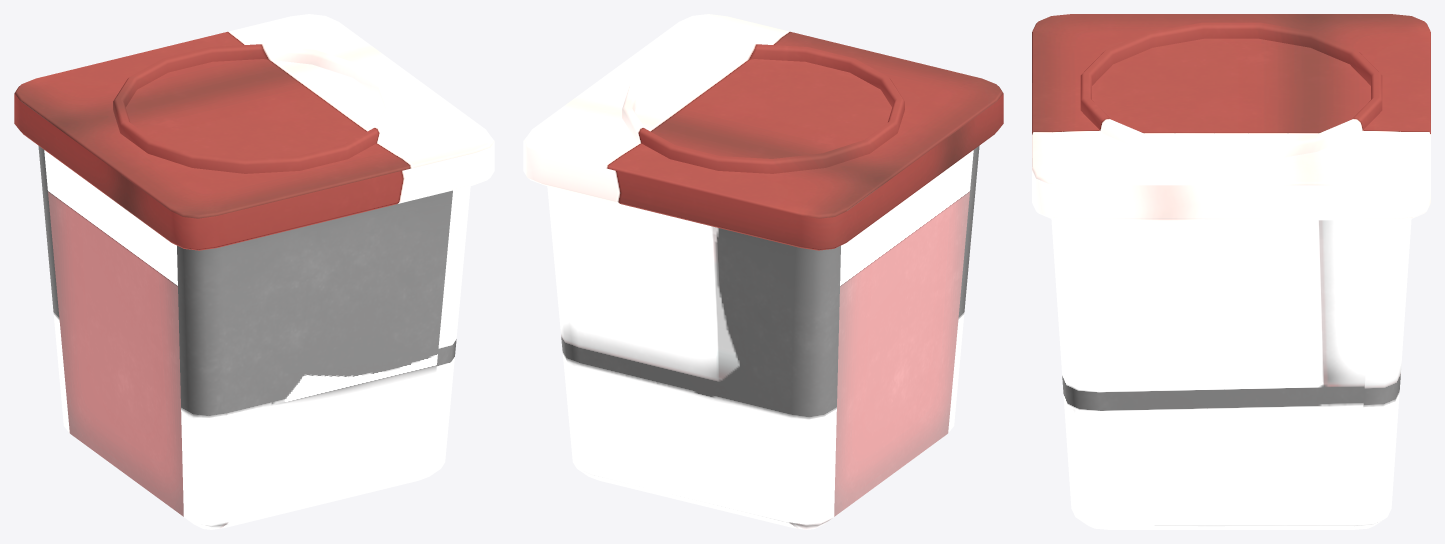
Rendered from SM_GingerBox_01.fbx.
3 renders of one model, left to right at view 1: azimuth 30°, elevation 25°; view 2: azimuth 150°, elevation 25°; view 3: azimuth 270°, elevation 25°, orthographic. The views are drawn at different scales.
Parts seen in each view (by area): view 1: SM_GingerBox_01_LOD0; view 2: SM_GingerBox_01_LOD0; view 3: SM_GingerBox_01_LOD0.
Boxes of the visible parts, left/top/right/bottom form: SM_GingerBox_01_LOD0: left=14, top=14, right=494, bottom=529; SM_GingerBox_01_LOD0: left=523, top=14, right=1003, bottom=529; SM_GingerBox_01_LOD0: left=1032, top=14, right=1430, bottom=529.
Bounding box in the file's own units: 10.99 × 10.99 × 11.65.
